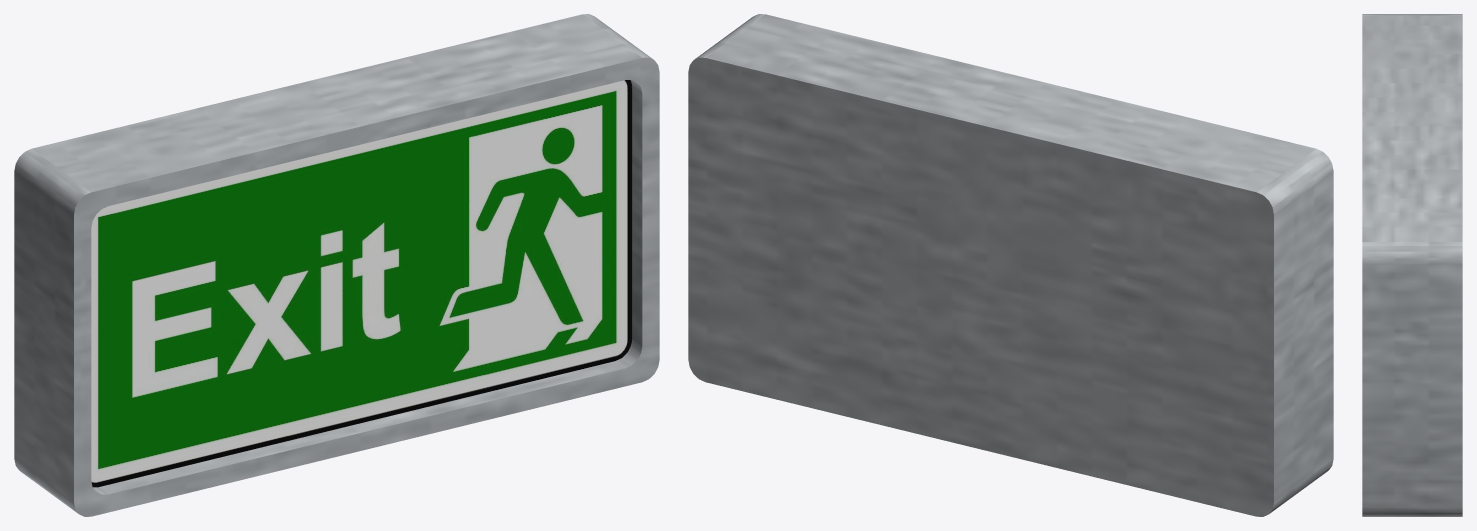
File: Exit Sign.dae
The picture shows the model from 3 angles, left to right: view 1: azimuth 30°, elevation 25°; view 2: azimuth 150°, elevation 25°; view 3: azimuth 270°, elevation 25°; orthographic projection. The views are drawn at different scales.
Visible parts, largest first — view 1: Component_1 (×3); view 2: Component_1; view 3: Component_1.
Boxes of the visible parts, x1,y1,x2,y2 form: Component_1 (×3): (14, 14, 659, 516); Component_1: (688, 14, 1333, 516); Component_1: (1362, 14, 1462, 516).
Bounding box in the file's own units: 13.39 × 2.36 × 7.09.
2 materials, 2 textured.
